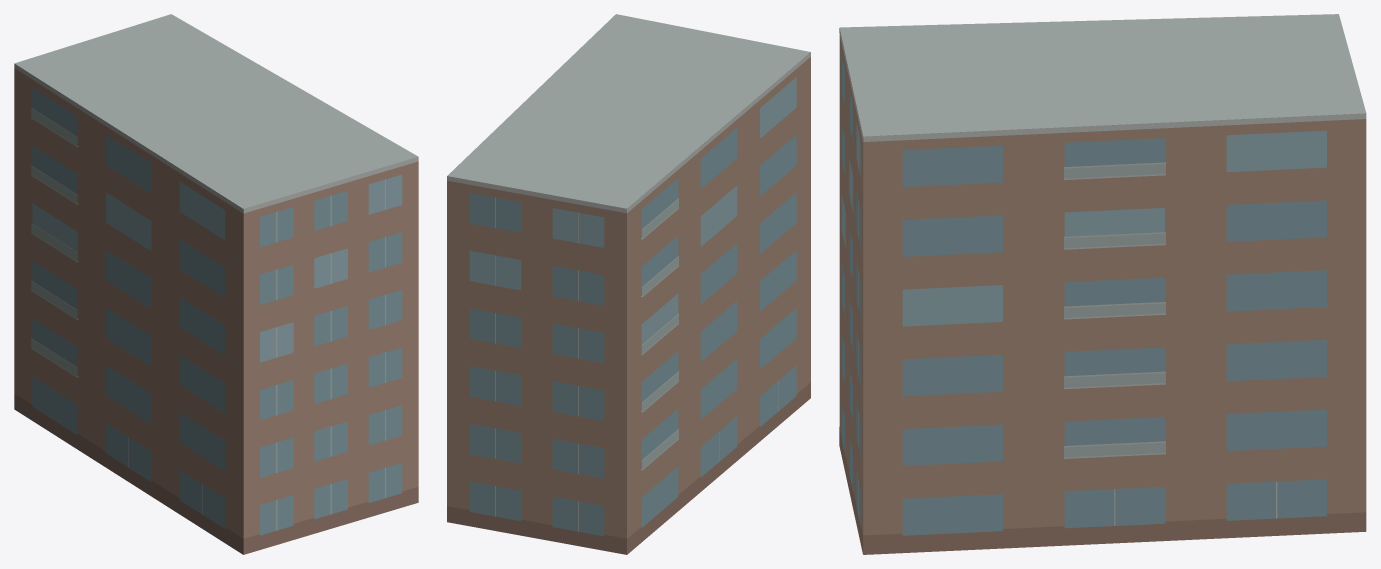
Rendered from survey-upis-32746773.glb.
3 views of the same model, side by side, from view 1: azimuth 30°, elevation 25°; view 2: azimuth 150°, elevation 25°; view 3: azimuth 270°, elevation 25° (orthographic). The views are drawn at different scales.
Visible parts, largest first — view 1: survey-upis-32746773.tmp; view 2: survey-upis-32746773.tmp; view 3: survey-upis-32746773.tmp.
Part boxes in pixels (<box>): survey-upis-32746773.tmp: <box>14,14,418,554</box>; survey-upis-32746773.tmp: <box>447,14,810,554</box>; survey-upis-32746773.tmp: <box>839,14,1366,554</box>.
Size of the model in its own units: 11.51 by 18.3 by 20.9.
